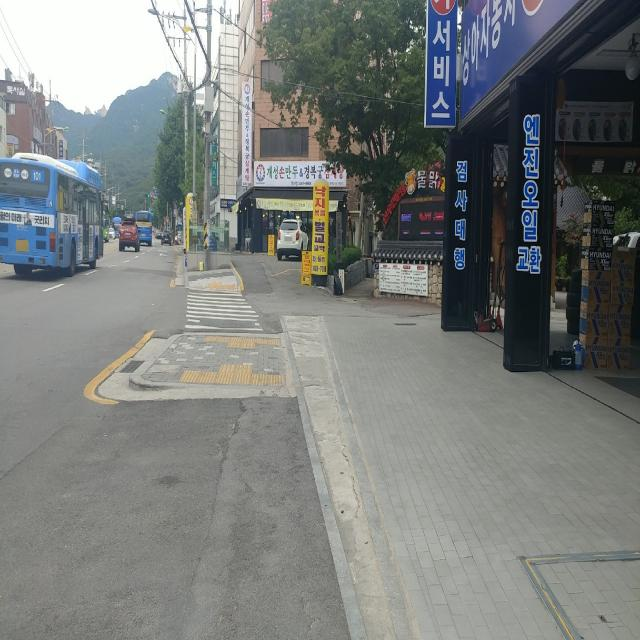횡단보도: (184, 293, 264, 332)
